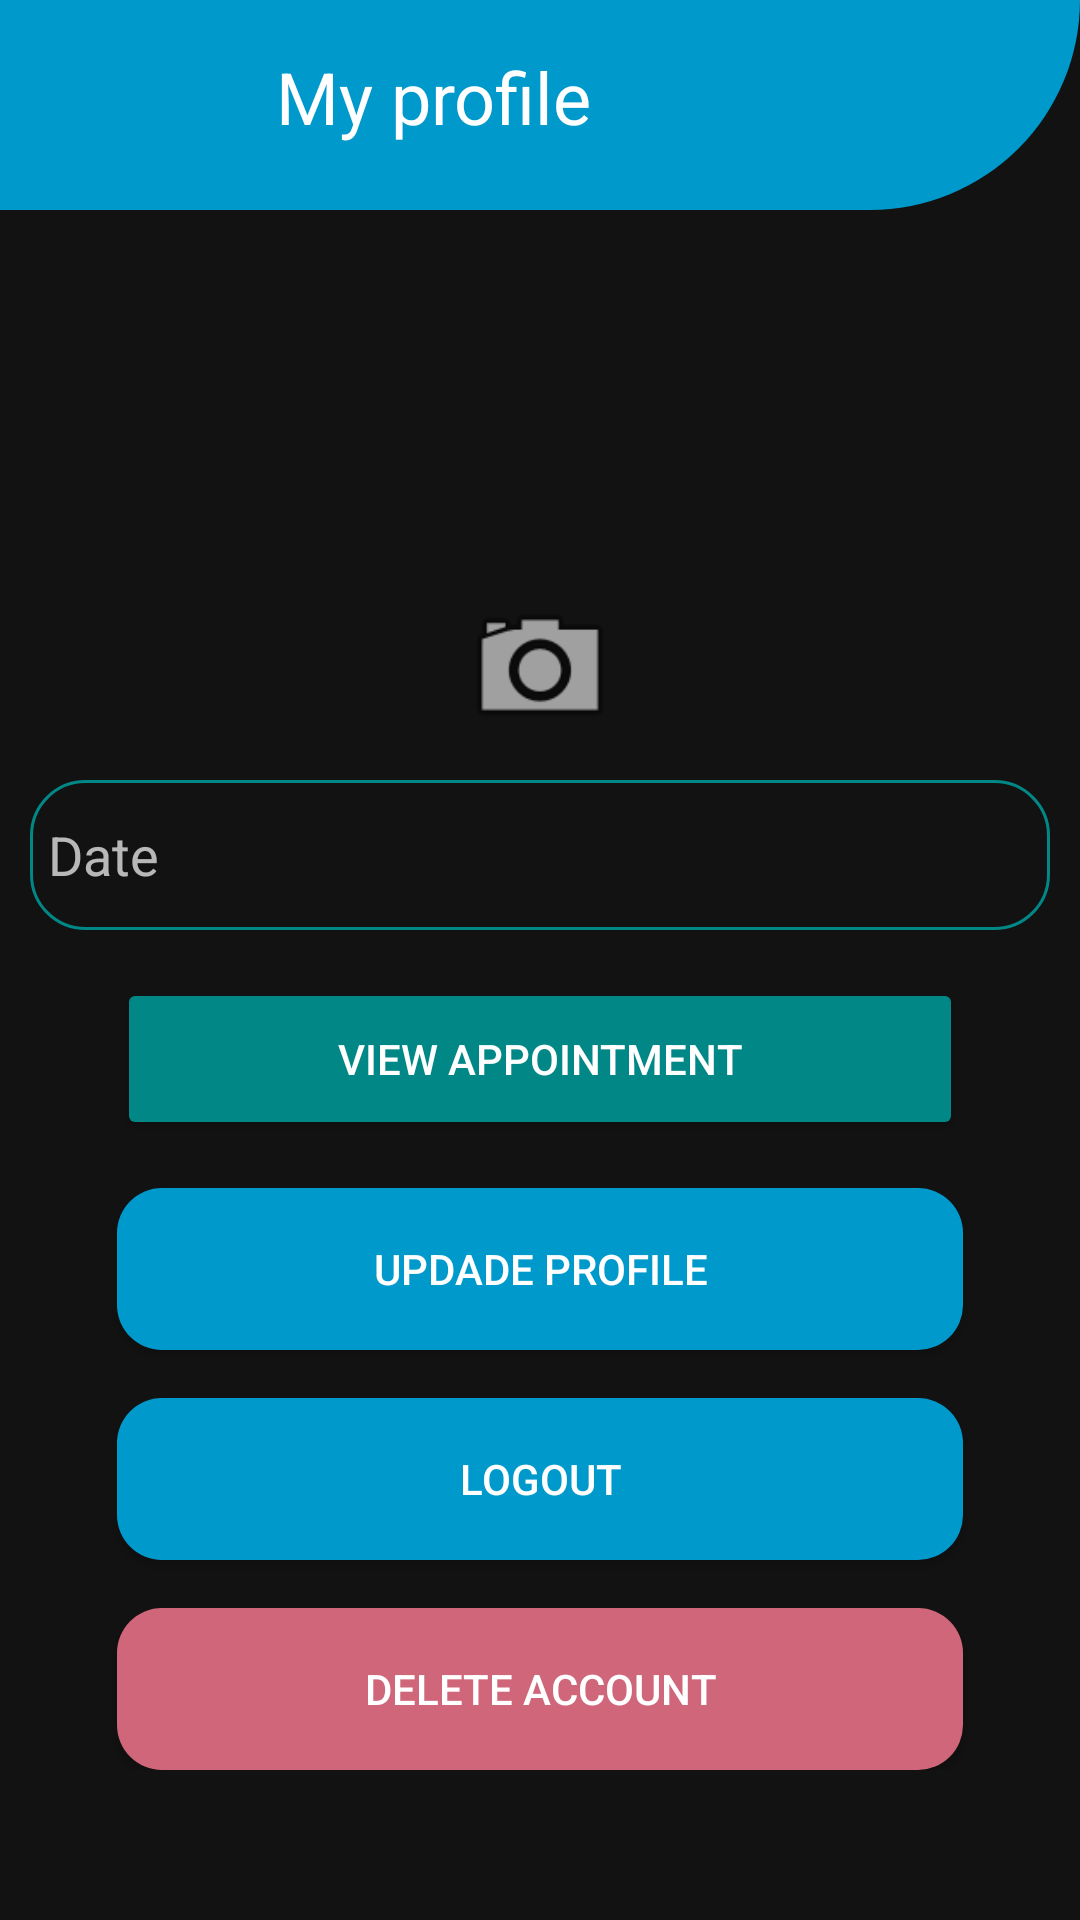

Where icons sit on this 1080×1920 app screen, as (x1, y1, x2, y2):
camera: (481, 619, 599, 711)
